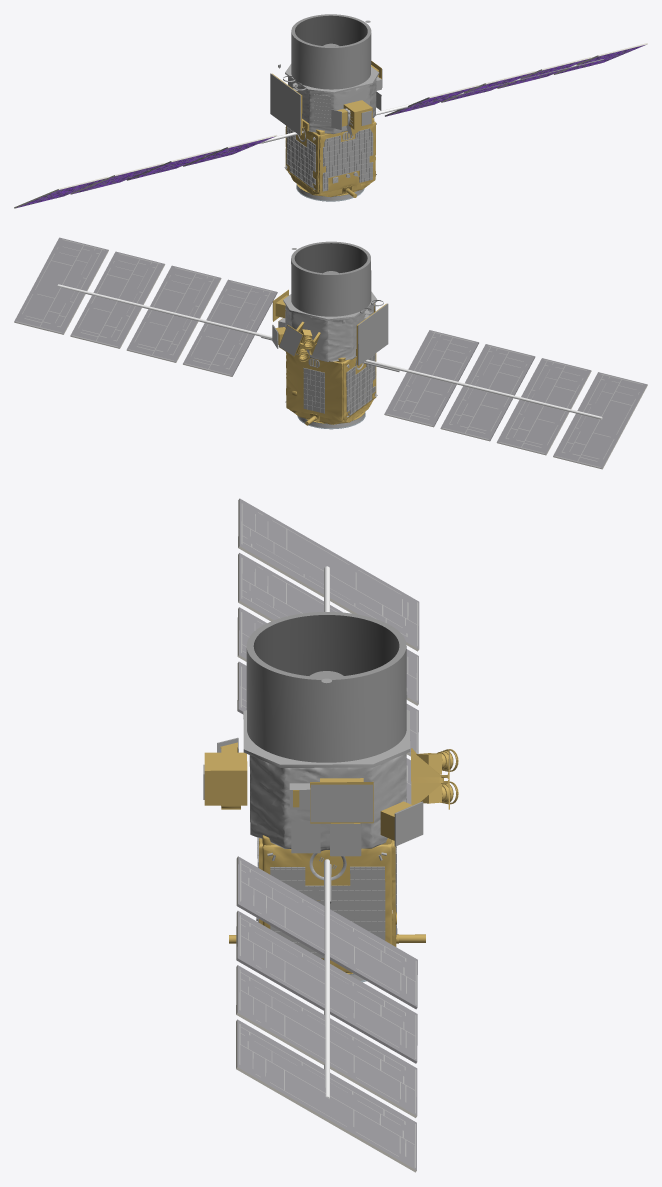
The model's file is spacecraft.dae.
3 views of the same model, one above another, from view 1: azimuth 30°, elevation 25°; view 2: azimuth 150°, elevation 25°; view 3: azimuth 270°, elevation 25° (orthographic). The views are drawn at different scales.
Parts seen in each view (by area): view 1: Mesh _node_5, Mesh _node_19, Mesh _node_7, Mesh _node_16, Mesh _node_1, Mesh _node_18, Mesh, Mesh _node_3, Mesh _node_17, Mesh _node_9, Mesh _node_10, Mesh _node_13 (+4 smaller); view 2: Mesh _node_16, Mesh _node_7, Mesh _node_5, Mesh _node_19, Mesh _node_3, Mesh _node_18, Cylinder, Mesh _node_1, Mesh _node_17, Mesh _node_2; view 3: Mesh _node_16, Mesh _node_7, Mesh _node_19, Mesh _node_18, Mesh _node_1, Mesh _node_5, Mesh _node_2, Mesh _node_17, Cylinder.
Part boxes in pixels (x1,y1,x2,y2): Mesh _node_5: [270, 20, 373, 191]; Mesh _node_19: [291, 14, 371, 89]; Mesh _node_7: [261, 64, 400, 200]; Mesh _node_16: [15, 44, 646, 208]; Mesh _node_1: [285, 65, 378, 197]; Mesh _node_18: [295, 15, 367, 45]; Mesh: [17, 46, 642, 207]; Mesh _node_3: [285, 122, 376, 193]; Mesh _node_17: [14, 43, 647, 208]; Mesh _node_9: [19, 45, 645, 206]; Mesh _node_10: [27, 48, 631, 204]; Mesh _node_13: [22, 46, 640, 205]; Mesh _node_16: [14, 237, 647, 468]; Mesh _node_7: [16, 239, 642, 467]; Mesh _node_5: [272, 248, 388, 415]; Mesh _node_19: [291, 241, 371, 316]; Mesh _node_3: [286, 352, 376, 421]; Mesh _node_18: [294, 243, 367, 273]; Cylinder: [57, 284, 602, 419]; Mesh _node_1: [275, 295, 376, 424]; Mesh _node_17: [14, 250, 647, 469]; Mesh _node_2: [273, 289, 386, 425]; Mesh _node_16: [236, 498, 419, 1170]; Mesh _node_7: [239, 503, 420, 1167]; Mesh _node_19: [246, 612, 406, 762]; Mesh _node_18: [253, 615, 399, 675]; Mesh _node_1: [204, 742, 412, 974]; Mesh _node_5: [203, 678, 449, 958]; Mesh _node_2: [229, 748, 458, 943]; Mesh _node_17: [236, 499, 418, 1172]; Cylinder: [324, 566, 329, 1099].
Bounding box in the file's own units: 228 × 57.86 × 42.73.
